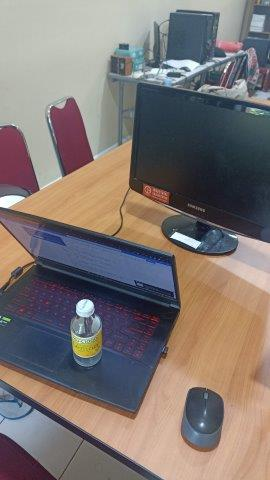botolkaca: (69, 298, 103, 371)
